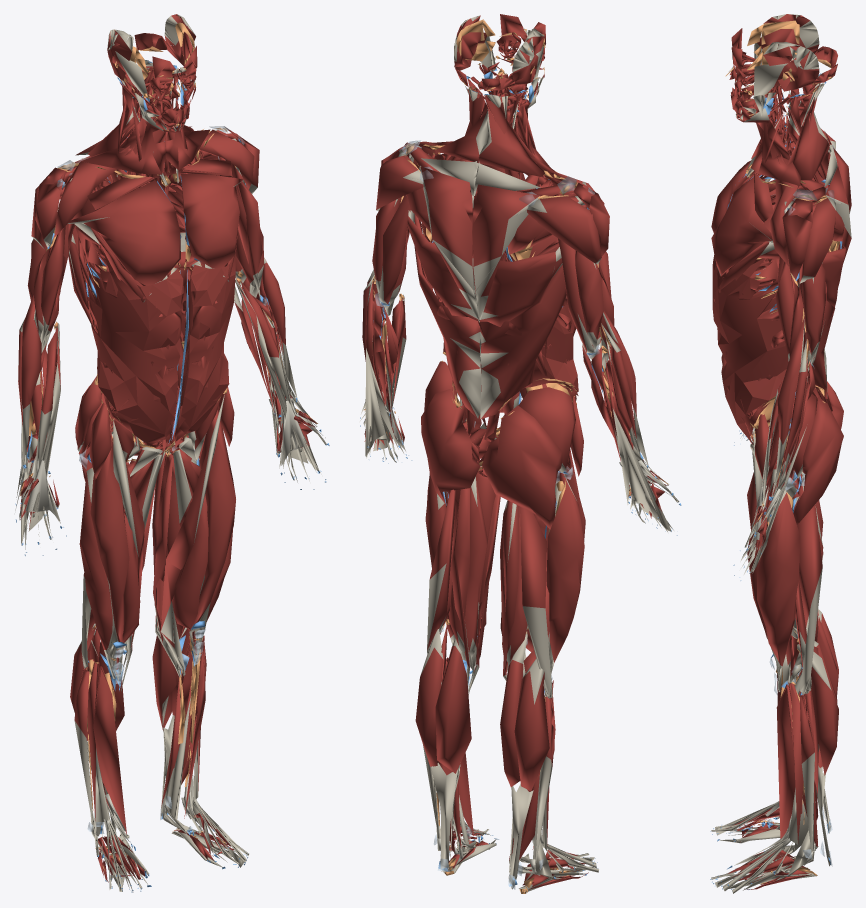
Rendered from adult_male.muscular.LOD4.glb.
The picture shows the model from 3 angles, left to right: view 1: azimuth 30°, elevation 25°; view 2: azimuth 150°, elevation 25°; view 3: azimuth 270°, elevation 25°; orthographic projection. The views are drawn at different scales.
Visible parts, largest first — view 1: ADULT.MALE.MUSCULAR.EXTERNAL_ABDOMINAL_OBLIQUE_MUSCLE.R, ADULT.MALE.MUSCULAR.STERNOCOSTAL_HEAD_OF_PECTORALIS_MAJOR_MU (×2), ADULT.MALE.MUSCULAR.EXTERNAL_ABDOMINAL_OBLIQUE_MUSCLE.L, ADULT.MALE.MUSCULAR.RECTUS_FEMORIS_MUSCLE.R, ADULT.MALE.MUSCULAR.RECTUS_FEMORIS_MUSCLE.L, ADULT.MALE.MUSCULAR.SARTORIUS_MUSCLE.L, ADULT.MALE.MUSCULAR.VASTUS_LATERALIS_MUSCLE.R, ADULT.MALE.MUSCULAR.TIBIALIS_ANTERIOR_MUSCLE.R, ADULT.MALE.MUSCULAR.PLATYSMA.R, ADULT.MALE.MUSCULAR.VASTUS_MEDIALIS_MUSCLE.L, ADULT.MALE.MUSCULAR.BRACHIORADIALIS_MUSCLE.R, ADULT.MALE.MUSCULAR.CLAVICULAR_HEAD_OF_PECTORALIS_MAJOR_MUSC (×2) (+41 smaller); view 2: ADULT.MALE.MUSCULAR.LATISSIMUS_DORSI_MUSCLE.R, ADULT.MALE.MUSCULAR.GLUTEUS_MAXIMUS_MUSCLE.R, ADULT.MALE.MUSCULAR.LATISSIMUS_DORSI_MUSCLE.L, ADULT.MALE.MUSCULAR.DESCENDING_PART_OF_TRAPEZIUS_MUSCLE.L, ADULT.MALE.MUSCULAR.VASTUS_LATERALIS_MUSCLE.R, ADULT.MALE.MUSCULAR.DESCENDING_PART_OF_TRAPEZIUS_MUSCLE.R, ADULT.MALE.MUSCULAR.GLUTEUS_MAXIMUS_MUSCLE.L, ADULT.MALE.MUSCULAR.LONG_HEAD_OF_BICEPS_FEMORIS.R, ADULT.MALE.MUSCULAR.MEDIAL_HEAD_OF_GASTROCNEMIUS.L, ADULT.MALE.MUSCULAR.LATERAL_HEAD_OF_GASTROCNEMIUS.R, ADULT.MALE.MUSCULAR.SEMIMEMBRANOSUS_MUSCLE.L, ADULT.MALE.MUSCULAR.SCAPULAR_SPINAL_PART_OF_DELTOID_MUSCLE.R (+36 smaller); view 3: ADULT.MALE.MUSCULAR.EXTERNAL_ABDOMINAL_OBLIQUE_MUSCLE.L, ADULT.MALE.MUSCULAR.VASTUS_LATERALIS_MUSCLE.L, ADULT.MALE.MUSCULAR.STERNOCOSTAL_HEAD_OF_PECTORALIS_MAJOR_MU (×2), ADULT.MALE.MUSCULAR.GLUTEUS_MAXIMUS_MUSCLE.L, ADULT.MALE.MUSCULAR.LONG_HEAD_OF_BICEPS_FEMORIS.L, ADULT.MALE.MUSCULAR.TIBIALIS_ANTERIOR_MUSCLE.L, ADULT.MALE.MUSCULAR.LATERAL_HEAD_OF_GASTROCNEMIUS.L, ADULT.MALE.MUSCULAR.PLATYSMA.L, ADULT.MALE.MUSCULAR.SCAPULAR_SPINAL_PART_OF_DELTOID_MUSCLE.L, ADULT.MALE.MUSCULAR.BRACHIORADIALIS_MUSCLE.L, ADULT.MALE.MUSCULAR.LATISSIMUS_DORSI_MUSCLE.L, ADULT.MALE.MUSCULAR.FIBULARIS_LONGUS_MUSCLE.L (+42 smaller).
Part boxes in pixels (x1,y1,x2,y2): ADULT.MALE.MUSCULAR.EXTERNAL_ABDOMINAL_OBLIQUE_MUSCLE.R: [87, 250, 183, 442]; ADULT.MALE.MUSCULAR.STERNOCOSTAL_HEAD_OF_PECTORALIS_MAJOR_MU (×2): [68, 173, 243, 285]; ADULT.MALE.MUSCULAR.EXTERNAL_ABDOMINAL_OBLIQUE_MUSCLE.L: [176, 252, 235, 440]; ADULT.MALE.MUSCULAR.RECTUS_FEMORIS_MUSCLE.R: [90, 424, 129, 680]; ADULT.MALE.MUSCULAR.RECTUS_FEMORIS_MUSCLE.L: [189, 410, 235, 662]; ADULT.MALE.MUSCULAR.SARTORIUS_MUSCLE.L: [160, 393, 224, 675]; ADULT.MALE.MUSCULAR.VASTUS_LATERALIS_MUSCLE.R: [79, 467, 115, 678]; ADULT.MALE.MUSCULAR.TIBIALIS_ANTERIOR_MUSCLE.R: [93, 666, 126, 834]; ADULT.MALE.MUSCULAR.PLATYSMA.R: [81, 106, 176, 174]; ADULT.MALE.MUSCULAR.VASTUS_MEDIALIS_MUSCLE.L: [172, 494, 208, 654]; ADULT.MALE.MUSCULAR.BRACHIORADIALIS_MUSCLE.R: [20, 295, 41, 464]; ADULT.MALE.MUSCULAR.CLAVICULAR_HEAD_OF_PECTORALIS_MAJOR_MUSC (×2): [71, 159, 243, 220]; ADULT.MALE.MUSCULAR.LATISSIMUS_DORSI_MUSCLE.R: [480, 247, 566, 419]; ADULT.MALE.MUSCULAR.GLUTEUS_MAXIMUS_MUSCLE.R: [482, 405, 562, 529]; ADULT.MALE.MUSCULAR.LATISSIMUS_DORSI_MUSCLE.L: [407, 210, 481, 418]; ADULT.MALE.MUSCULAR.DESCENDING_PART_OF_TRAPEZIUS_MUSCLE.L: [420, 166, 479, 321]; ADULT.MALE.MUSCULAR.VASTUS_LATERALIS_MUSCLE.R: [546, 473, 584, 673]; ADULT.MALE.MUSCULAR.DESCENDING_PART_OF_TRAPEZIUS_MUSCLE.R: [473, 184, 539, 322]; ADULT.MALE.MUSCULAR.GLUTEUS_MAXIMUS_MUSCLE.L: [421, 389, 480, 504]; ADULT.MALE.MUSCULAR.LONG_HEAD_OF_BICEPS_FEMORIS.R: [520, 506, 552, 698]; ADULT.MALE.MUSCULAR.MEDIAL_HEAD_OF_GASTROCNEMIUS.L: [435, 638, 471, 773]; ADULT.MALE.MUSCULAR.LATERAL_HEAD_OF_GASTROCNEMIUS.R: [514, 658, 549, 790]; ADULT.MALE.MUSCULAR.SEMIMEMBRANOSUS_MUSCLE.L: [449, 476, 487, 674]; ADULT.MALE.MUSCULAR.SCAPULAR_SPINAL_PART_OF_DELTOID_MUSCLE.R: [527, 196, 601, 264]; ADULT.MALE.MUSCULAR.EXTERNAL_ABDOMINAL_OBLIQUE_MUSCLE.L: [712, 258, 788, 439]; ADULT.MALE.MUSCULAR.VASTUS_LATERALIS_MUSCLE.L: [757, 489, 800, 691]; ADULT.MALE.MUSCULAR.STERNOCOSTAL_HEAD_OF_PECTORALIS_MAJOR_MU (×2): [711, 160, 772, 275]; ADULT.MALE.MUSCULAR.GLUTEUS_MAXIMUS_MUSCLE.L: [793, 397, 843, 525]; ADULT.MALE.MUSCULAR.LONG_HEAD_OF_BICEPS_FEMORIS.L: [797, 504, 822, 694]; ADULT.MALE.MUSCULAR.TIBIALIS_ANTERIOR_MUSCLE.L: [776, 684, 795, 838]; ADULT.MALE.MUSCULAR.LATERAL_HEAD_OF_GASTROCNEMIUS.L: [797, 644, 838, 775]; ADULT.MALE.MUSCULAR.PLATYSMA.L: [737, 108, 800, 185]; ADULT.MALE.MUSCULAR.SCAPULAR_SPINAL_PART_OF_DELTOID_MUSCLE.L: [799, 197, 835, 283]; ADULT.MALE.MUSCULAR.BRACHIORADIALIS_MUSCLE.L: [771, 317, 804, 498]; ADULT.MALE.MUSCULAR.LATISSIMUS_DORSI_MUSCLE.L: [798, 244, 845, 398]; ADULT.MALE.MUSCULAR.FIBULARIS_LONGUS_MUSCLE.L: [771, 691, 814, 872].
Bounding box in the file's own units: 0.6604 × 1.67 × 0.2572.
